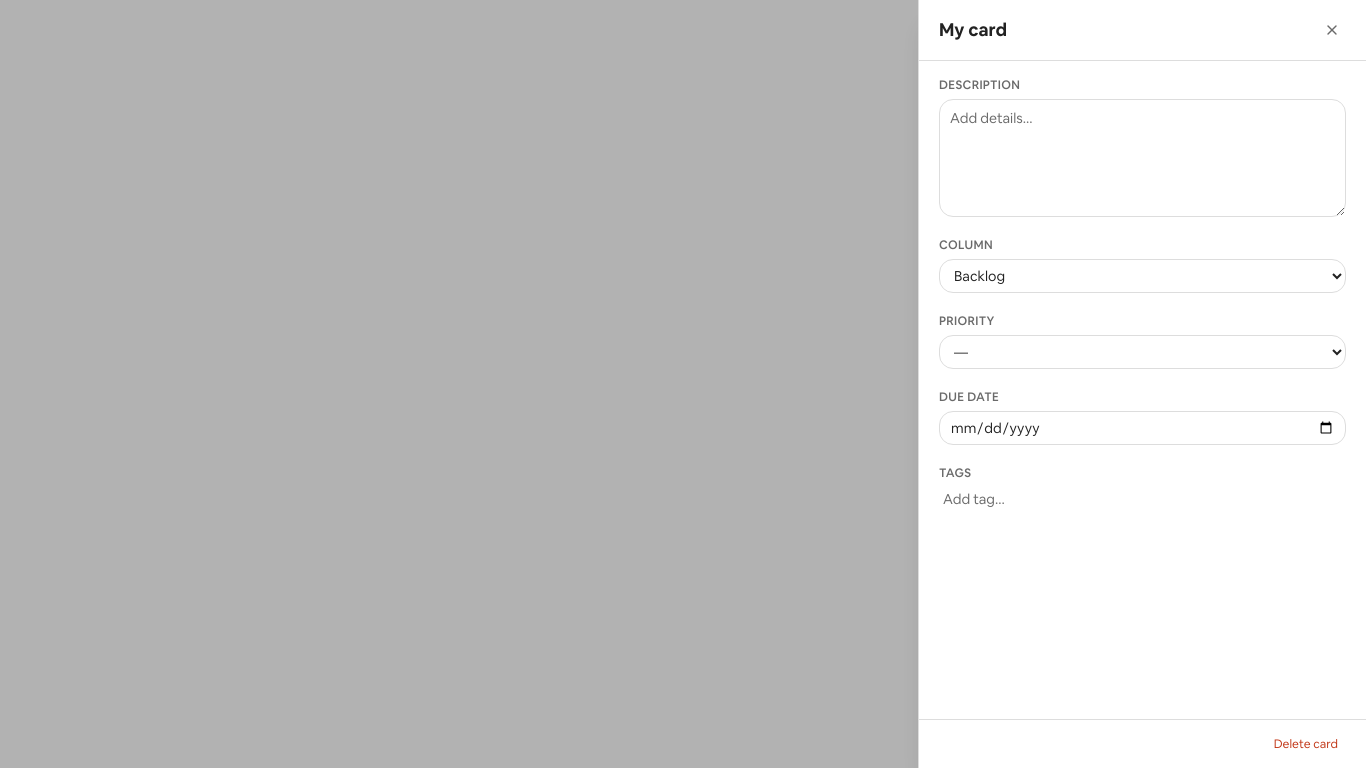
Test: CardDetailPane delete › cancels delete when Cancel is clicked
Click the button "Delete card" at (1306, 744), box x1=1266 y1=732 x2=1346 y2=756
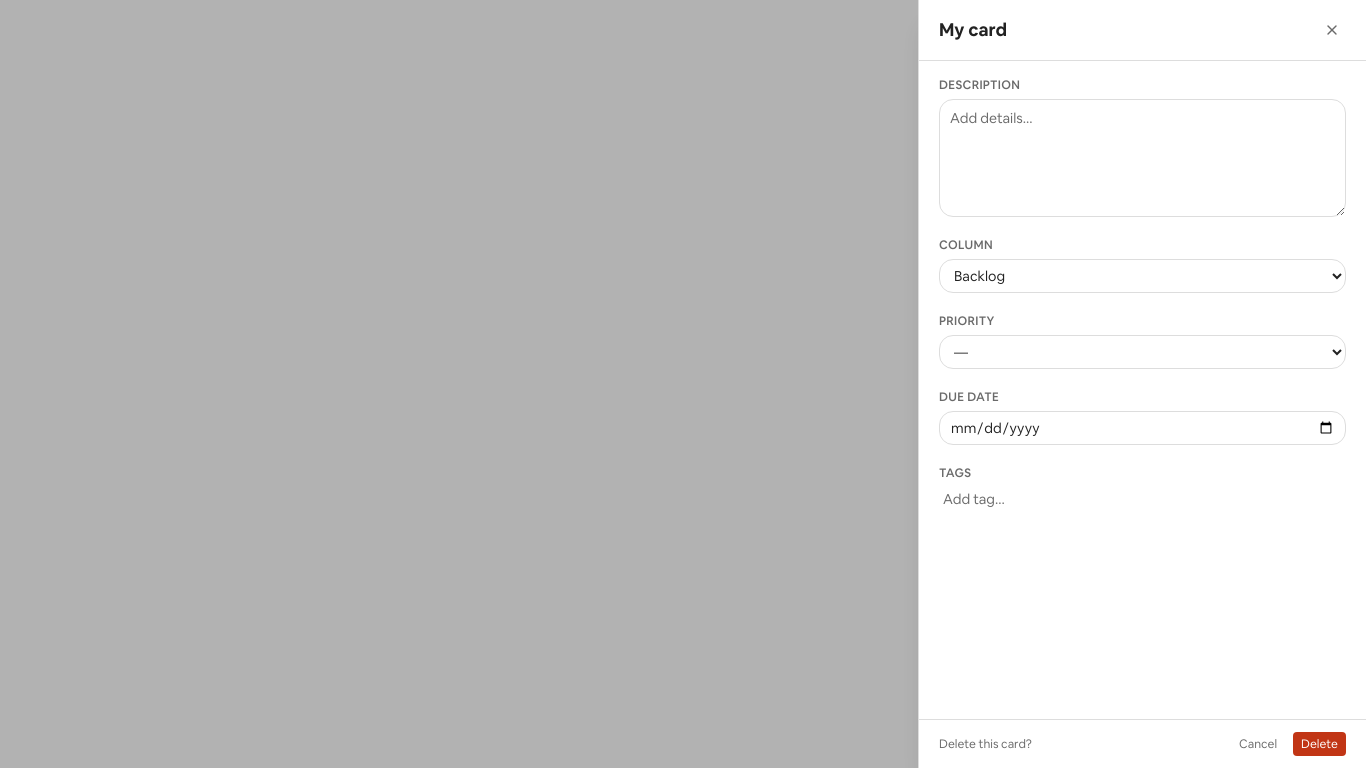
Click the button "Cancel" at (1258, 744), box x1=1231 y1=732 x2=1285 y2=756
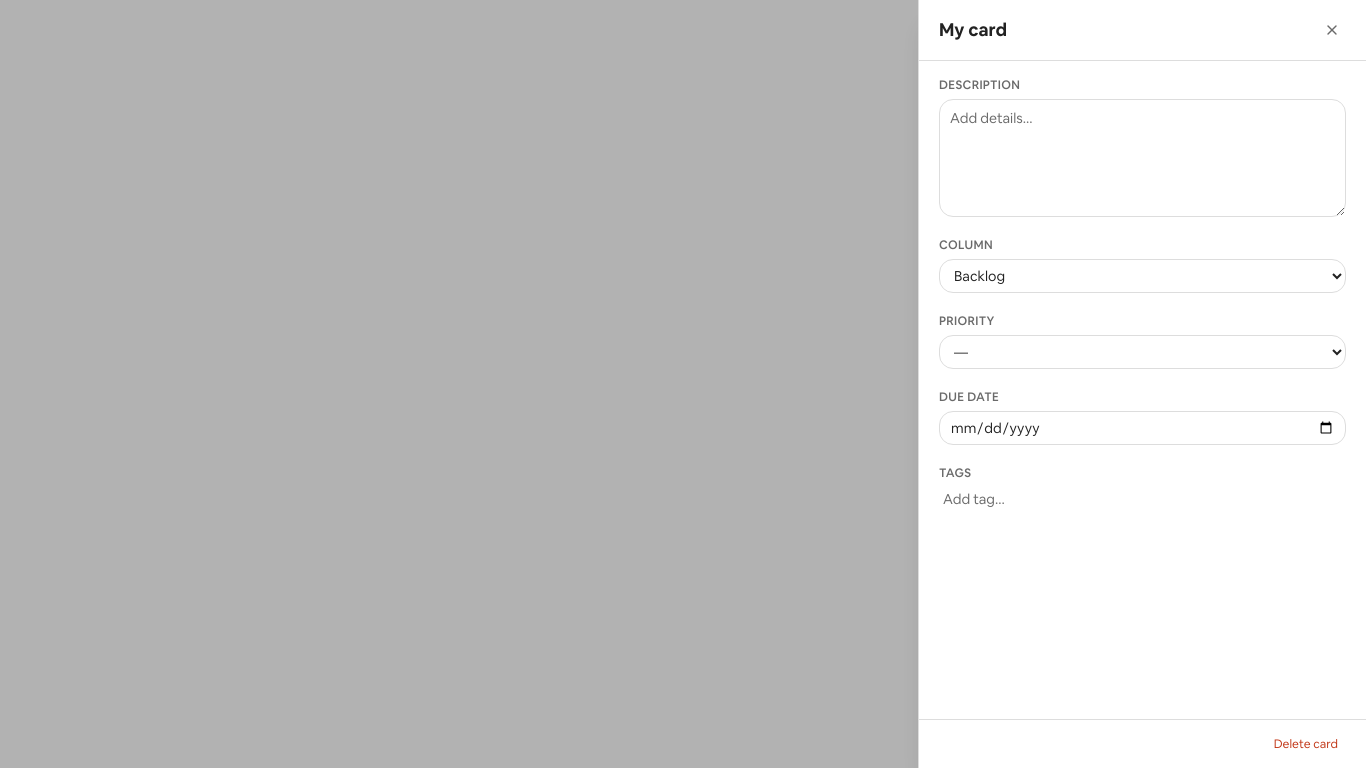
Check: the text "Delete this card" is gone
